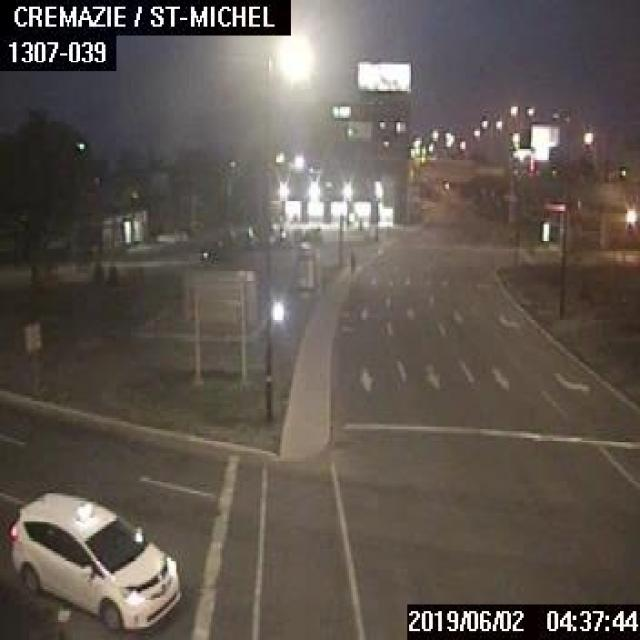pedestrian: (348, 249, 354, 273)
vehicle: (7, 490, 180, 630), (0, 582, 60, 638)
